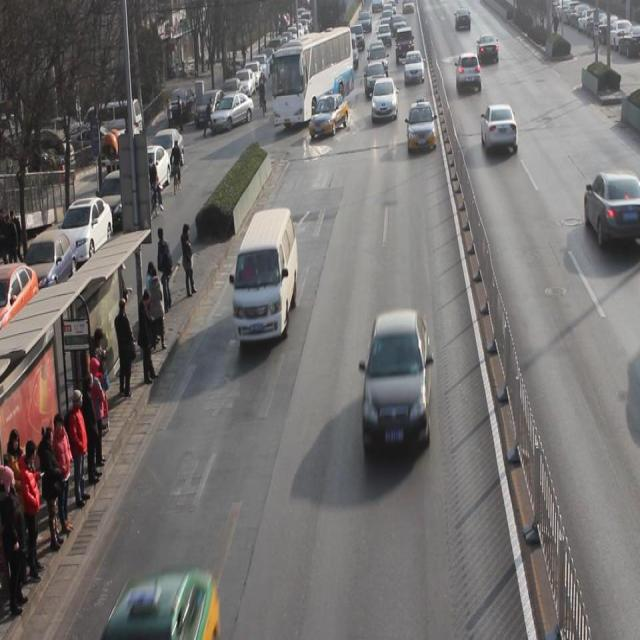car: (364, 308, 432, 456), (105, 570, 220, 640), (584, 170, 640, 250), (482, 104, 518, 158), (308, 95, 351, 140), (406, 100, 437, 154), (371, 76, 398, 123), (456, 52, 483, 96), (365, 61, 388, 100), (404, 48, 425, 86), (478, 34, 500, 69)
truck: (233, 207, 298, 343)
van: (273, 29, 354, 125)
